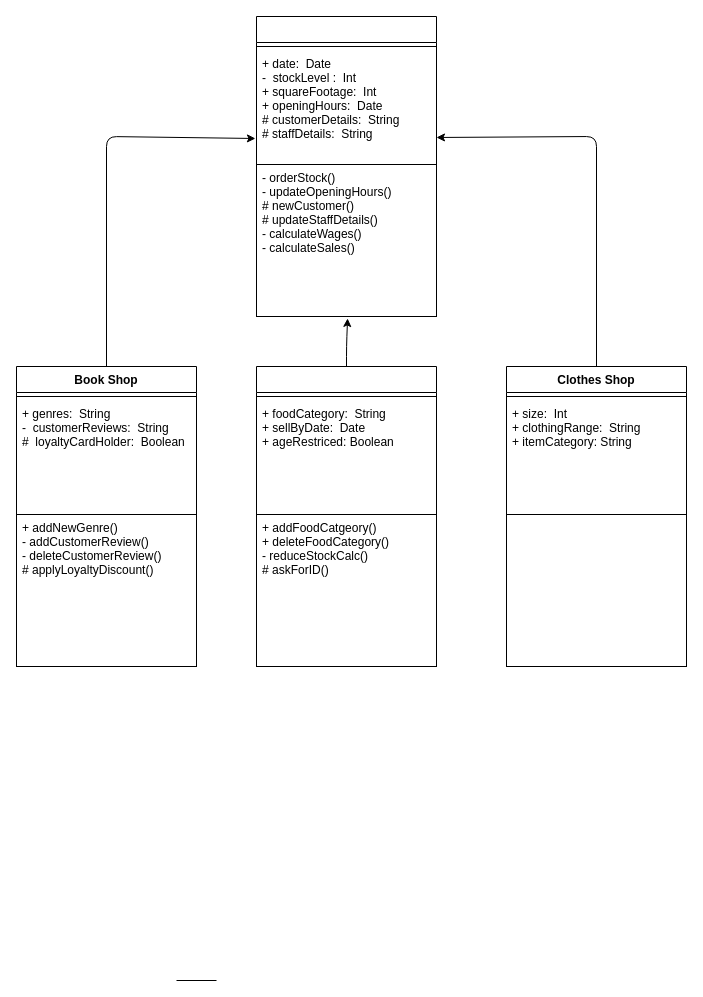
Image size: 703x997. Some labels were removed from this diagram. The box of each missing label's shape, as (x1, y1, x2, y2) in pixels:
+ addNewRange() - bestSellingItems() - applyPromotionalDiscount(): (506, 514, 686, 666)
Food Shop: (256, 366, 436, 666)
Shop: (256, 16, 436, 316)
